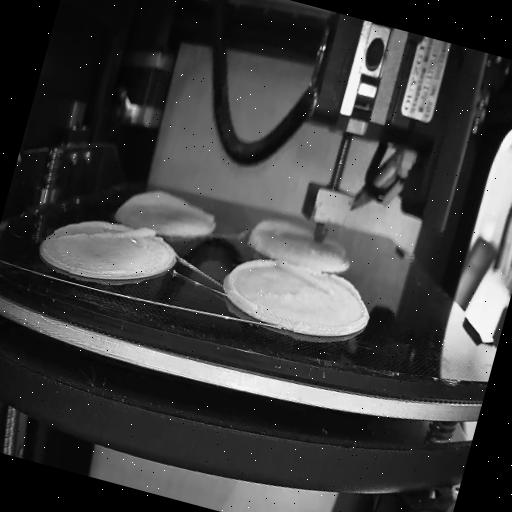over_extrusion: (56, 204, 157, 266), (124, 174, 220, 228), (221, 248, 280, 314), (246, 214, 312, 260), (323, 272, 366, 300)
